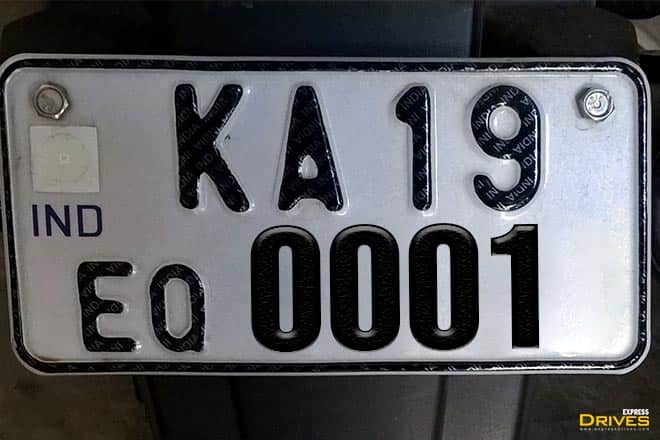number_plate: (1, 52, 654, 377)
